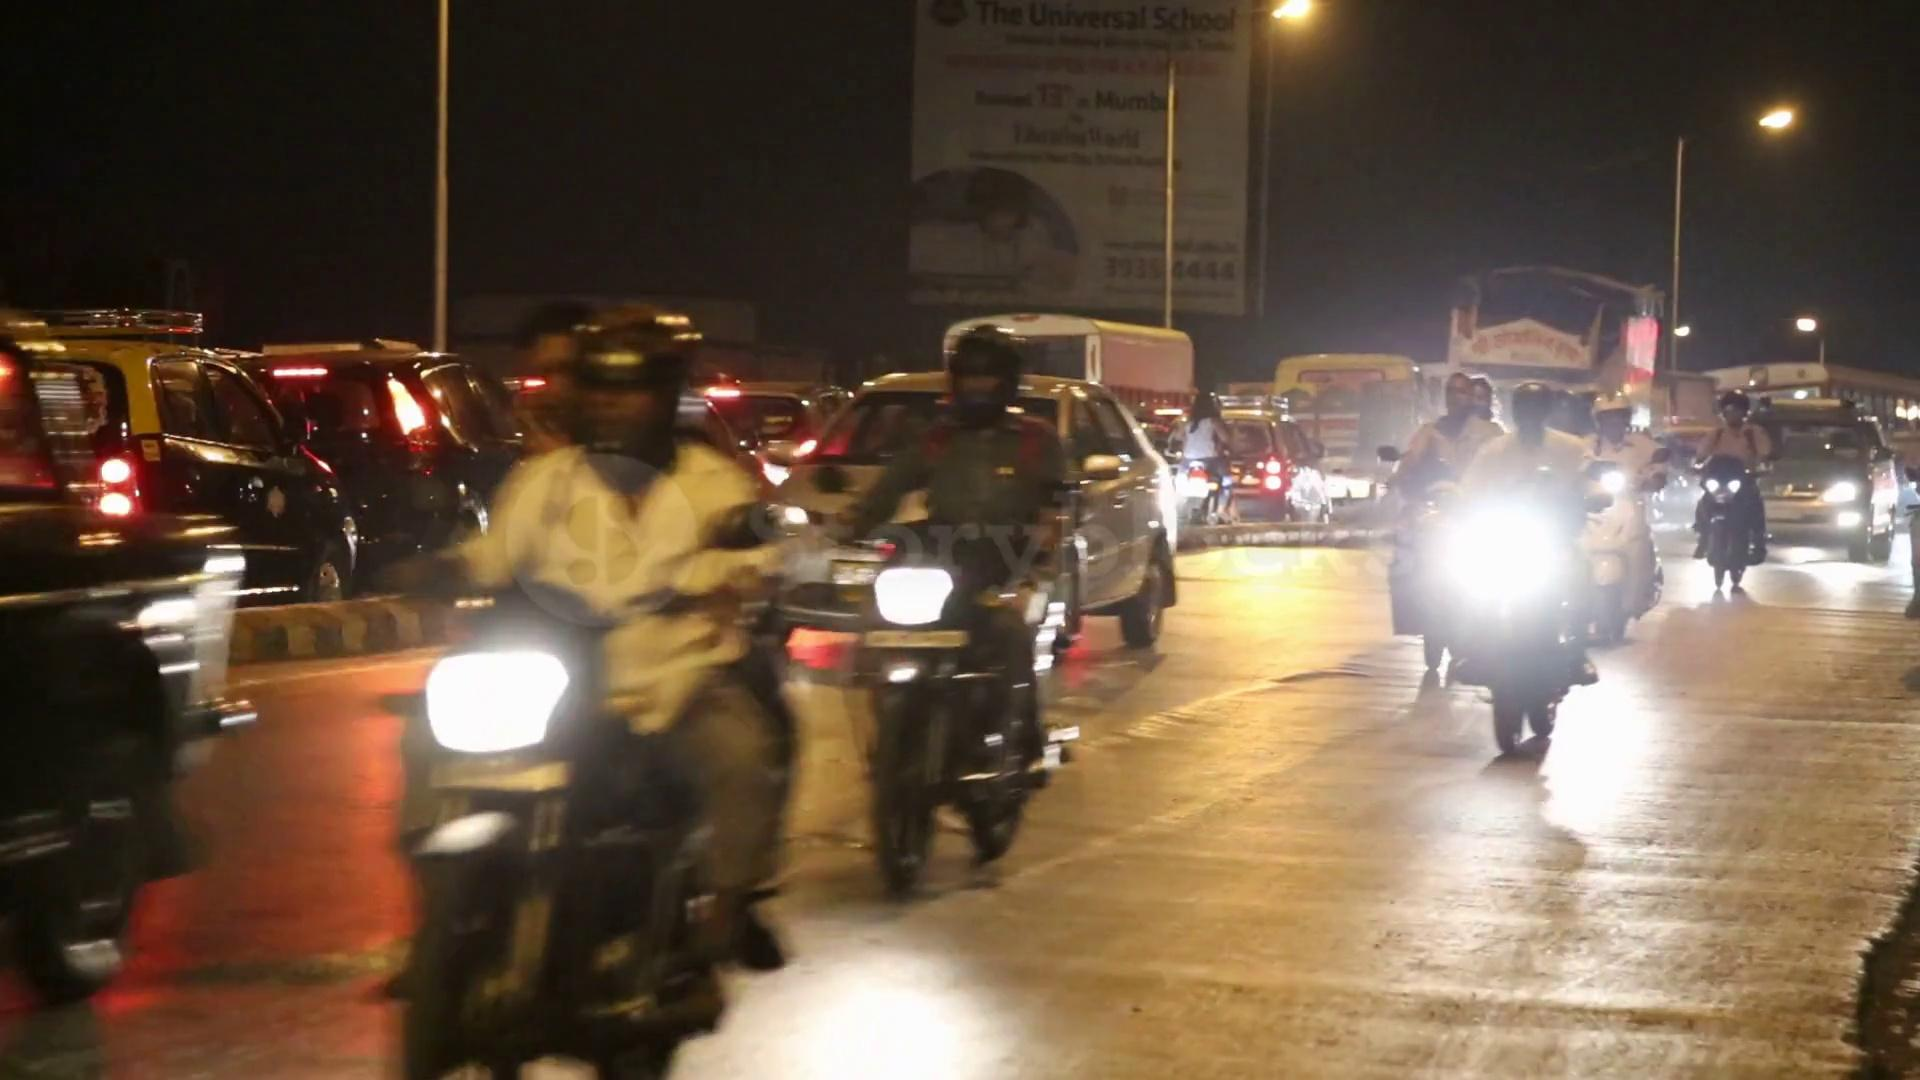rider: (449, 302, 797, 1021), (830, 322, 1073, 890), (1491, 381, 1577, 760), (1386, 359, 1483, 683), (1587, 389, 1674, 656), (1694, 381, 1766, 600)
with_helmate: (569, 321, 686, 479), (936, 329, 1026, 423), (1503, 386, 1557, 431), (1589, 393, 1633, 434), (1717, 389, 1753, 427)
without_helmate: (1434, 361, 1474, 420)
